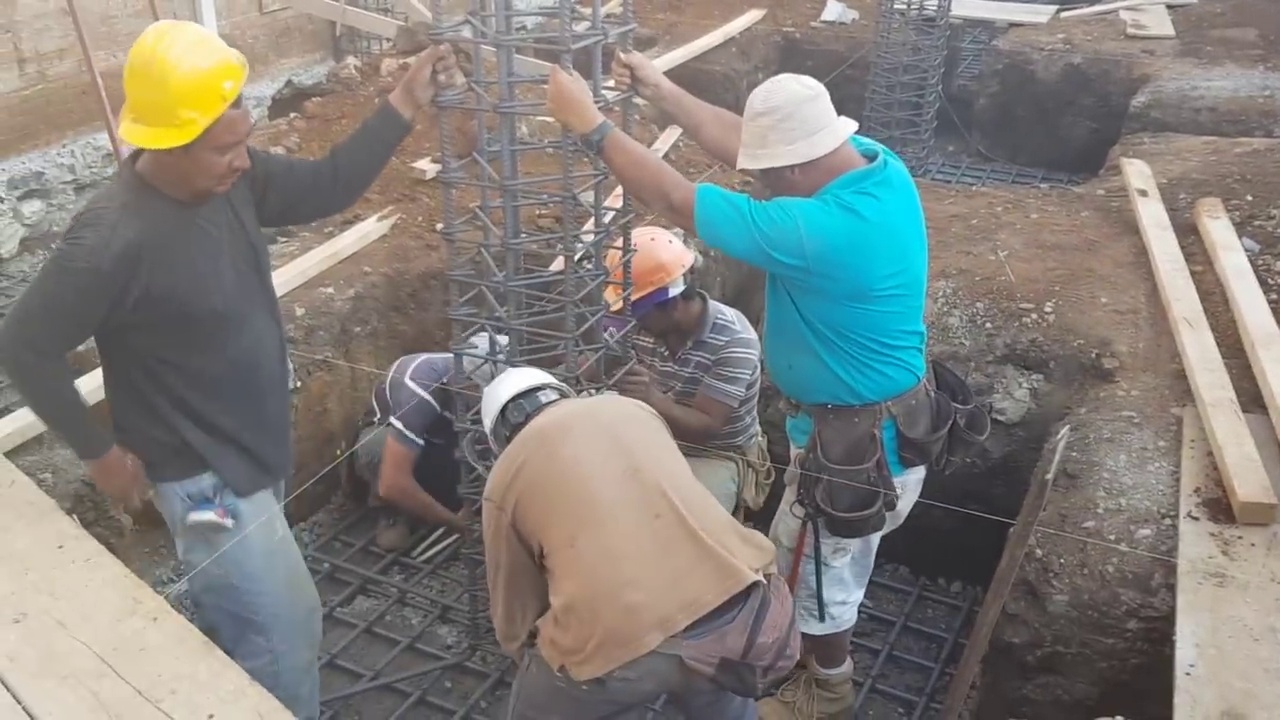helmet: (106, 12, 249, 152), (594, 229, 696, 315), (481, 367, 566, 462)
helmet-off: (729, 74, 873, 203), (451, 329, 513, 397)
helmet-on: (106, 11, 248, 212), (593, 231, 708, 349), (482, 365, 584, 464)
person: (0, 0, 378, 718), (538, 45, 925, 720), (486, 363, 796, 690), (587, 220, 772, 511), (355, 326, 518, 535)
